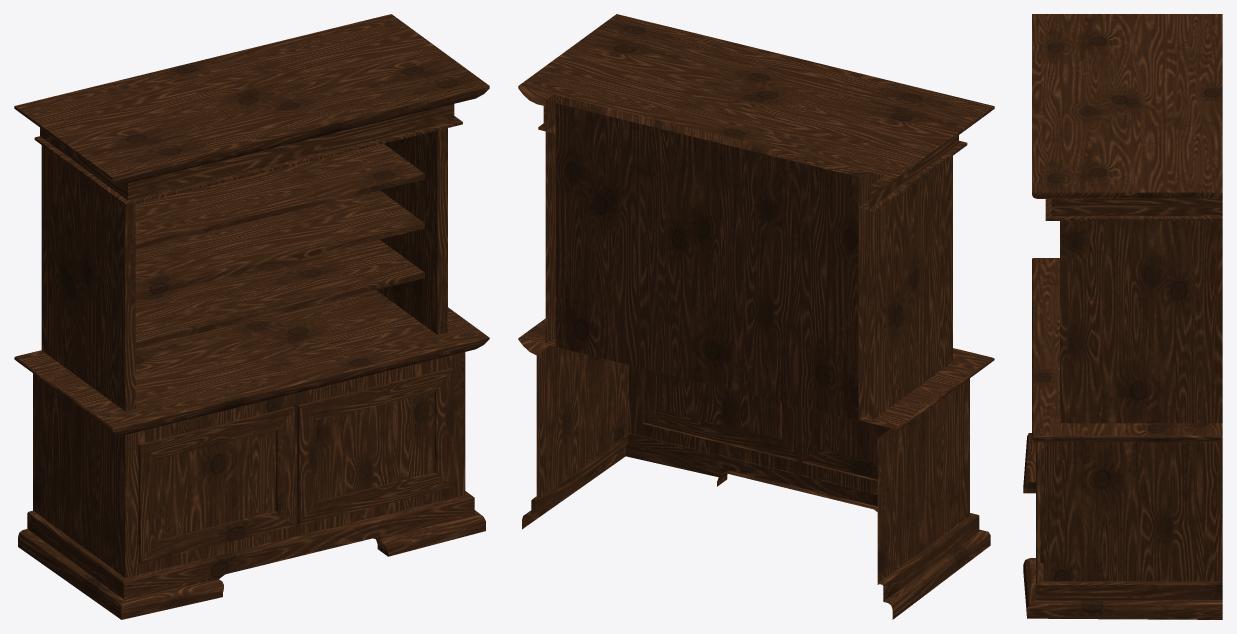
File: Bookshelf.fbx
The picture shows the model from 3 angles, left to right: view 1: azimuth 30°, elevation 25°; view 2: azimuth 150°, elevation 25°; view 3: azimuth 270°, elevation 25°; orthographic projection. The views are drawn at different scales.
Visible parts, largest first — view 1: Книжный шкаф; view 2: Книжный шкаф; view 3: Книжный шкаф.
Boxes of the visible parts, x1,y1,x2,y2 form: Книжный шкаф: [14, 14, 489, 619]; Книжный шкаф: [518, 14, 994, 619]; Книжный шкаф: [1023, 14, 1222, 619].
Bounding box in the file's own units: 85.75 × 182 × 204.
